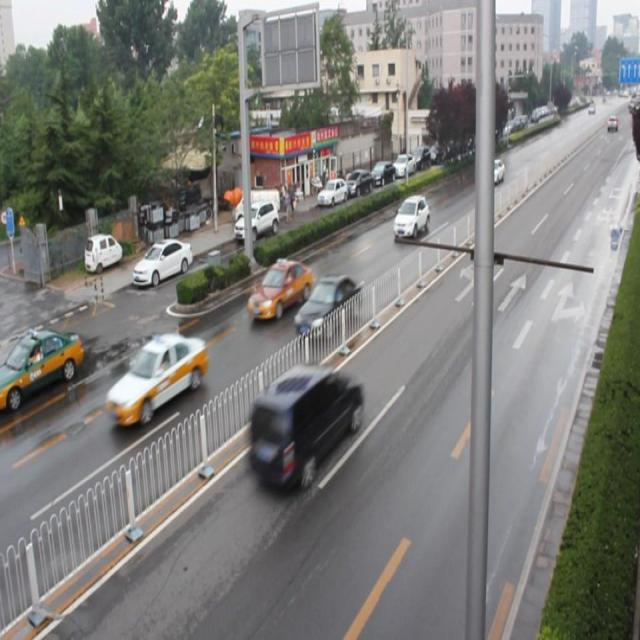car: (105, 333, 206, 428), (294, 273, 360, 341), (248, 255, 311, 321), (393, 196, 429, 238)
truck: (247, 367, 361, 496)
